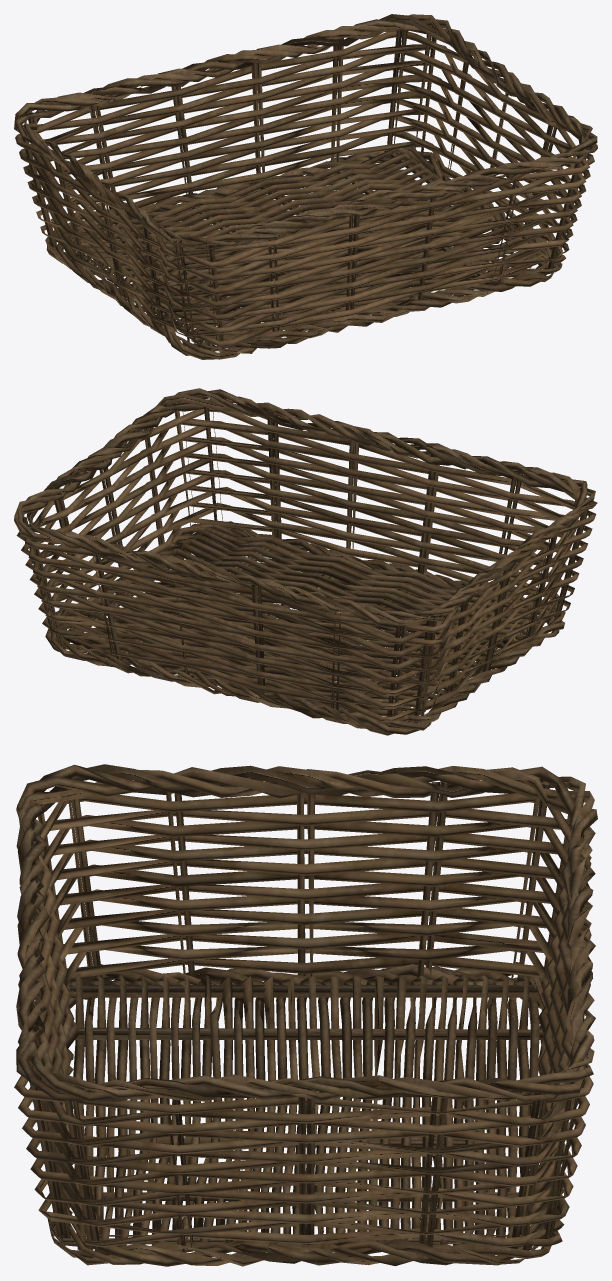
The model's file is ph-wicker-basket-01.glb.
3 renders of one model, top to bottom at view 1: azimuth 30°, elevation 25°; view 2: azimuth 150°, elevation 25°; view 3: azimuth 270°, elevation 25°, orthographic. The views are drawn at different scales.
Parts seen in each view (by area): view 1: wicker_basket_01; view 2: wicker_basket_01; view 3: wicker_basket_01.
Boxes of the visible parts, left/top/right/bottom form: wicker_basket_01: left=14, top=14, right=597, bottom=359; wicker_basket_01: left=14, top=388, right=597, bottom=735; wicker_basket_01: left=14, top=764, right=597, bottom=1266.
Bounding box in the file's own units: 0.383 × 0.1174 × 0.2939.
Materials: 1 (1 with a texture image).
